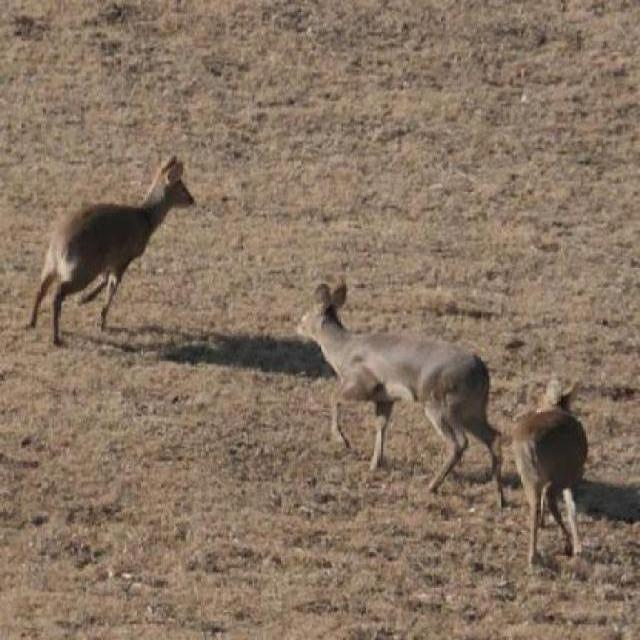deer: (295, 274, 503, 497), (25, 159, 212, 349), (512, 366, 605, 574)
